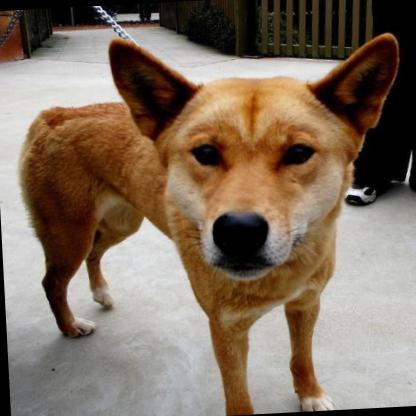dingo: (9, 22, 415, 416)
